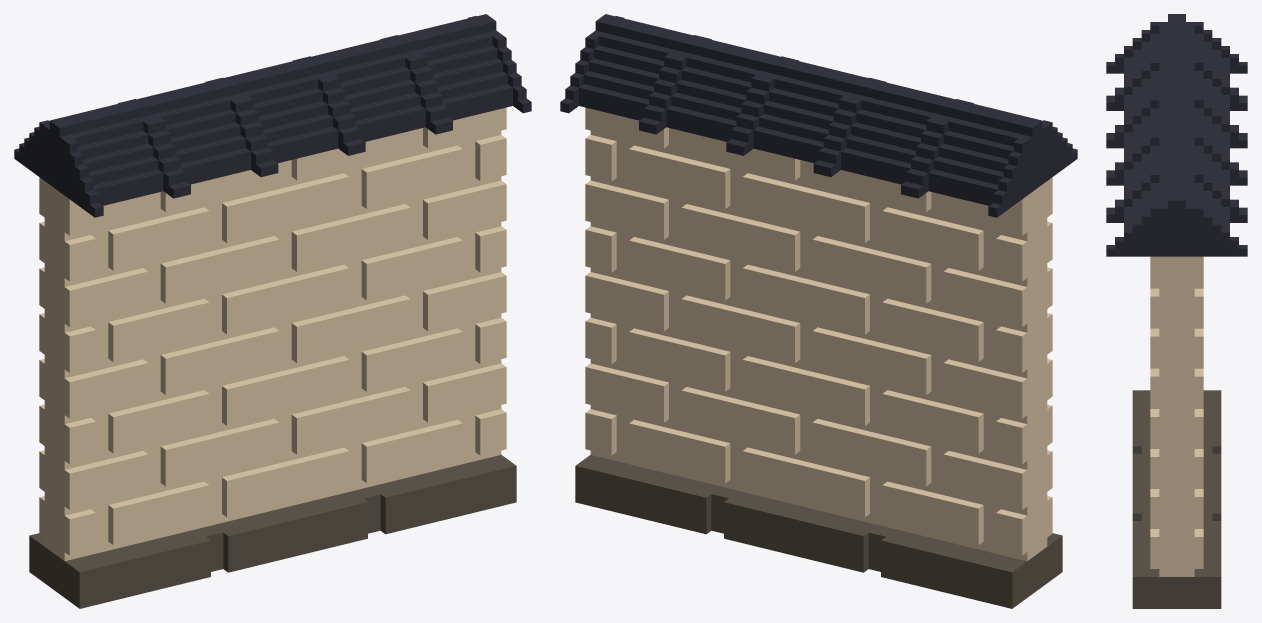
File: Korean_wall_02.FBX
The picture shows the model from 3 angles, left to right: view 1: azimuth 30°, elevation 25°; view 2: azimuth 150°, elevation 25°; view 3: azimuth 270°, elevation 25°; orthographic projection. The views are drawn at different scales.
Parts seen in each view (by area): view 1: untitled-1; view 2: untitled-1; view 3: untitled-1.
Boxes of the visible parts, x1,y1,x2,y2 form: untitled-1: (14, 14, 531, 608); untitled-1: (560, 14, 1077, 608); untitled-1: (1106, 14, 1247, 608).
Bounding box in the file's own units: 49.99 × 50.99 × 16.
Materials: 1 (1 with a texture image).
